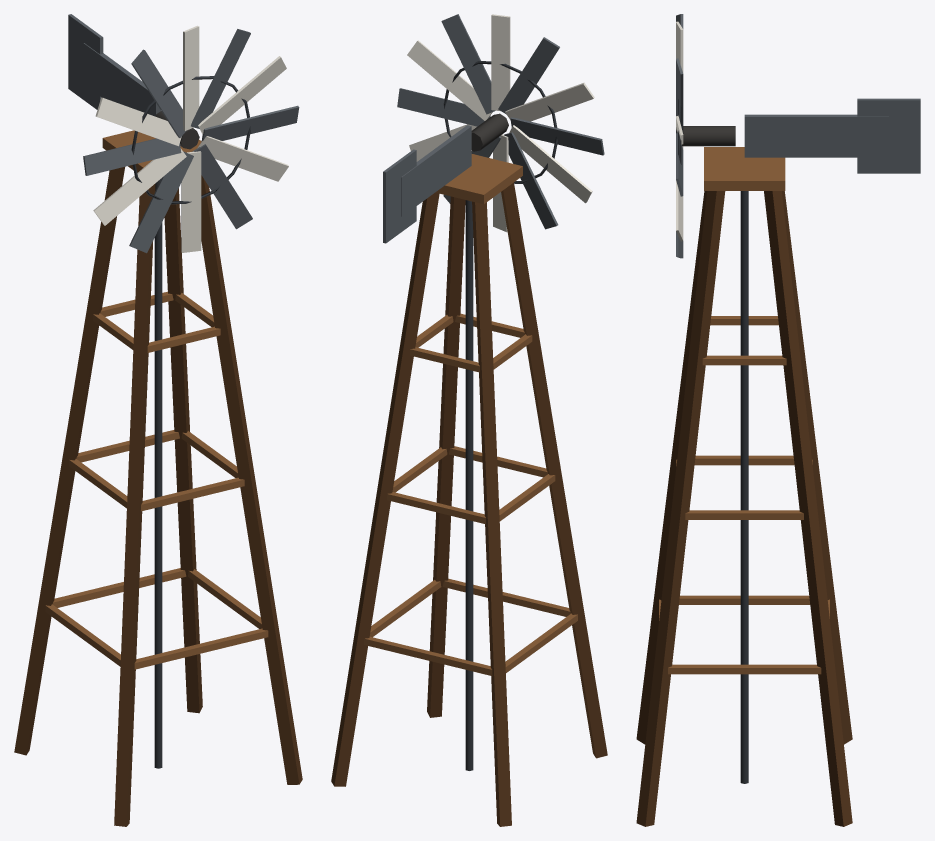
File: wind_pump.glb
3 views of the same model, side by side, from view 1: azimuth 30°, elevation 25°; view 2: azimuth 150°, elevation 25°; view 3: azimuth 270°, elevation 25° (orthographic). The views are drawn at different scales.
Visible parts, largest first — view 1: wind_pump; view 2: wind_pump; view 3: wind_pump.
Boxes of the visible parts, box(x1,y1,x2,y2) form: wind_pump: box(14, 14, 302, 826); wind_pump: box(331, 14, 607, 826); wind_pump: box(636, 14, 920, 826).
Size of the model in its own units: 2.7 by 9.26 by 3.15.
